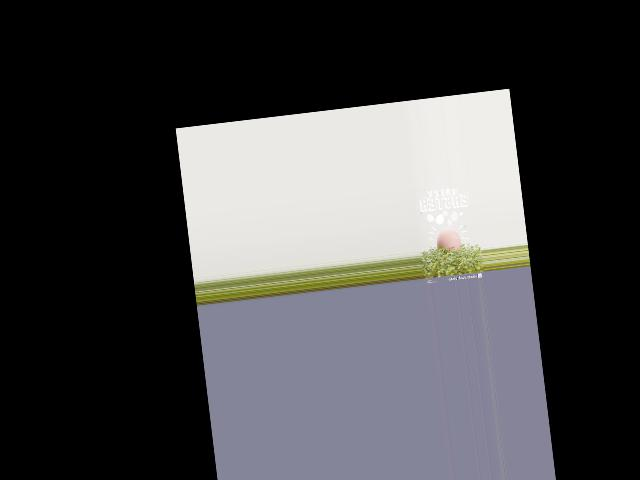egg: (434, 226, 461, 253)
